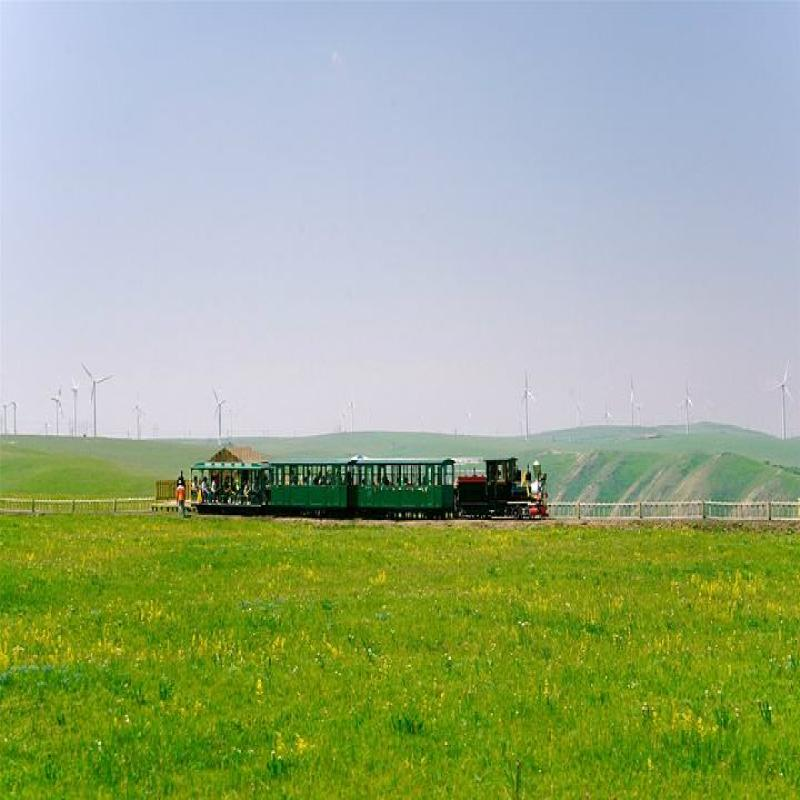train: (182, 448, 557, 541)
